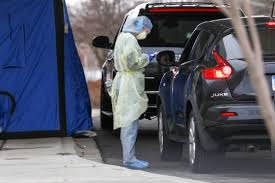mask: (124, 12, 155, 41)
